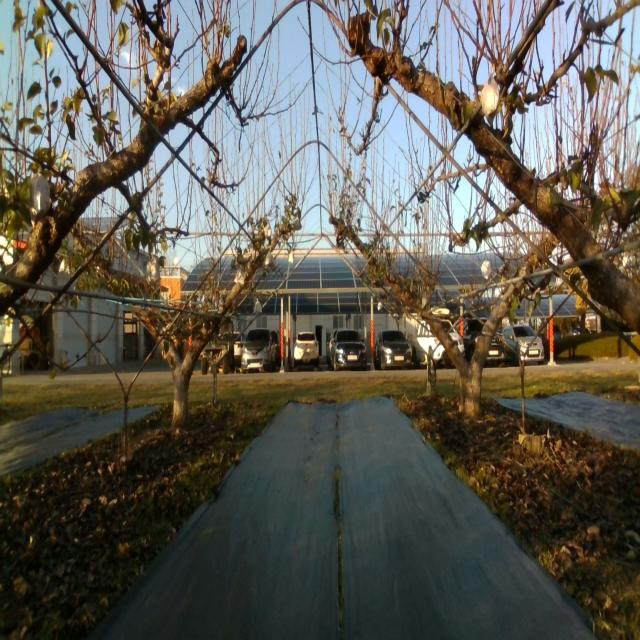pearbags: (29, 173, 50, 216), (481, 75, 499, 120), (146, 258, 160, 284), (481, 260, 492, 281)
